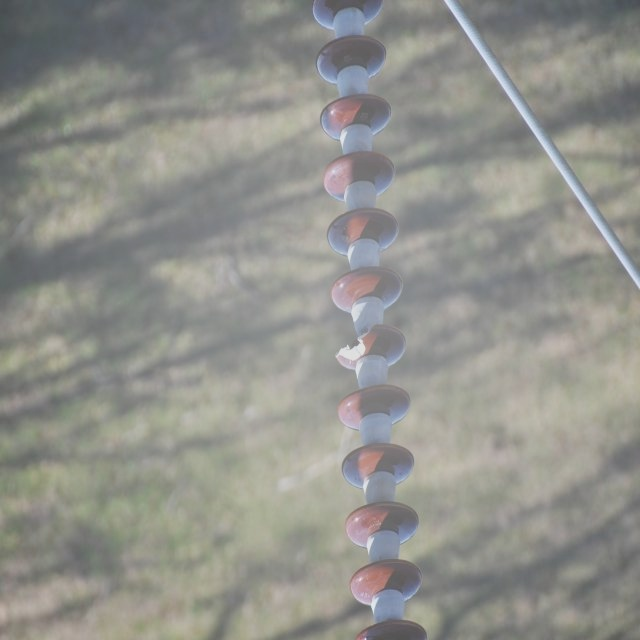broken: (333, 325, 387, 367)
insulator: (311, 0, 428, 639)
